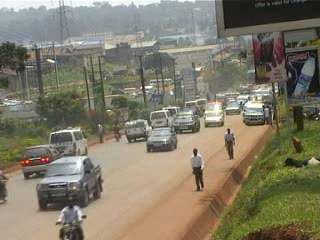Car: (20, 141, 66, 179), (144, 123, 180, 153), (169, 110, 205, 135), (203, 108, 225, 129), (224, 100, 240, 117)
Motorcycle: (54, 195, 88, 240), (0, 165, 12, 204), (110, 119, 123, 142)
